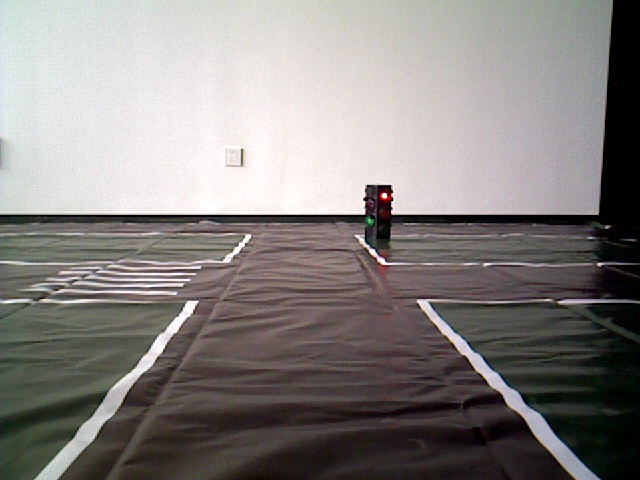red: (363, 187, 392, 246)
